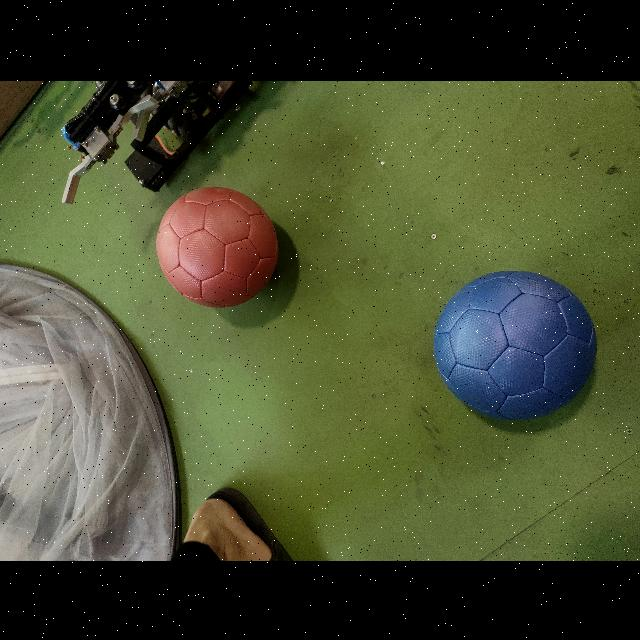B: (434, 267, 596, 420)
R: (155, 183, 278, 308)
